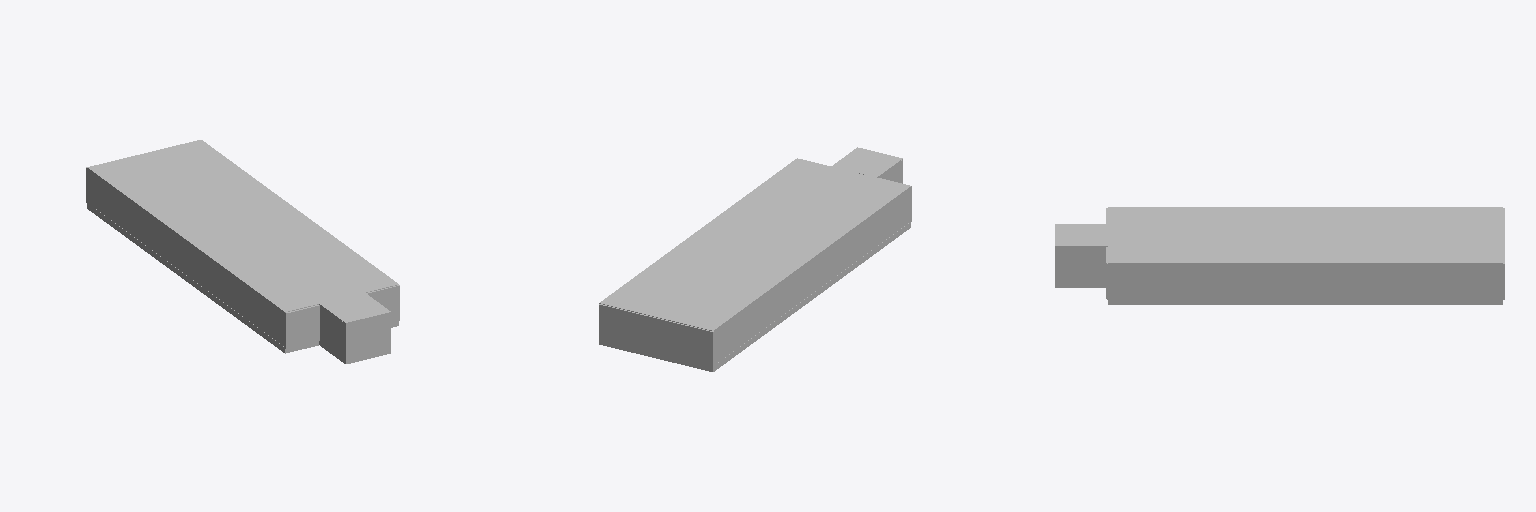
Rendered from beginning.obj.
3 views of the same model, side by side, from view 1: azimuth 30°, elevation 25°; view 2: azimuth 150°, elevation 25°; view 3: azimuth 270°, elevation 25° (orthographic).
Visible parts, largest first — view 1: Cube, Cube.007, Cube.009, Cube.010, Cube.006, Cube.011, Cube.004, Cube.005; view 2: Cube, Cube.007, Cube.008, Cube.010, Cube.011; view 3: Cube, Cube.001, Cube.010, Cube.003, Cube.011.
Boxes of the visible parts, box(x1,y1,x2,y2) form: Cube: box(87, 140, 398, 317); Cube.007: box(90, 176, 290, 345); Cube.009: box(342, 313, 390, 359); Cube.010: box(87, 204, 398, 353); Cube.006: box(283, 305, 319, 348); Cube.011: box(319, 293, 390, 325); Cube.004: box(320, 310, 341, 355); Cube.005: box(366, 286, 398, 323); Cube: box(599, 158, 910, 334); Cube.007: box(716, 194, 908, 363); Cube.008: box(599, 304, 715, 367); Cube.010: box(599, 222, 910, 371); Cube.011: box(831, 147, 902, 177); Cube: box(1108, 207, 1502, 268); Cube.001: box(1107, 261, 1502, 299); Cube.010: box(1108, 299, 1502, 304); Cube.003: box(1055, 247, 1105, 282); Cube.011: box(1055, 224, 1107, 251).
Size of the model in its own units: 20.04 by 6.96 by 68.24.